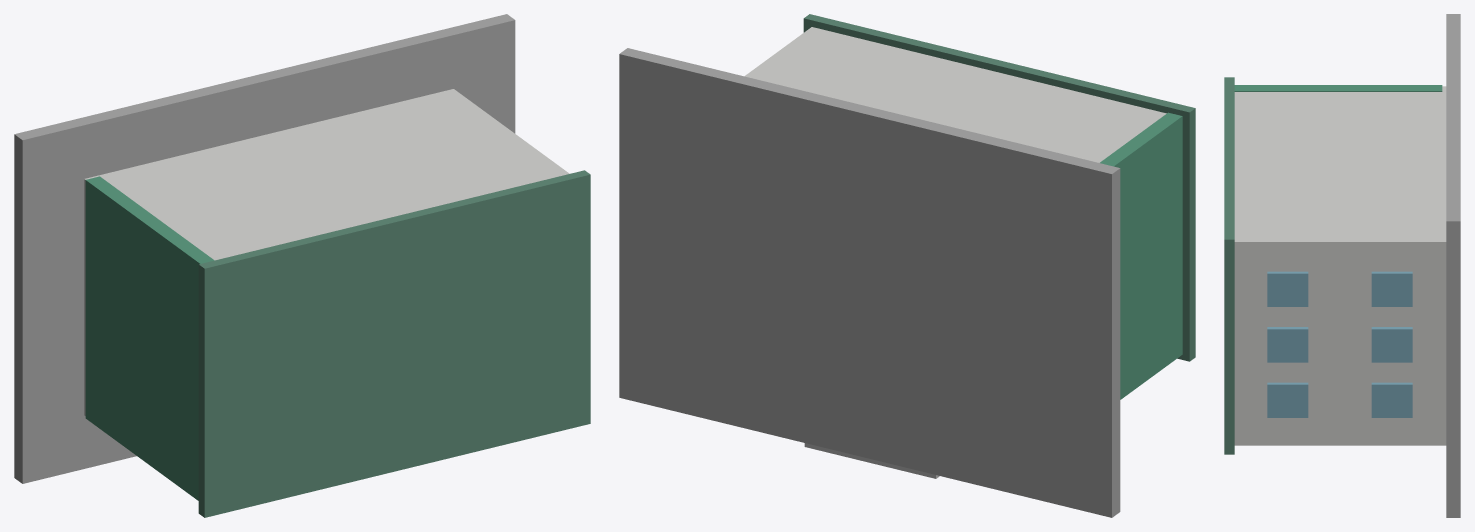
The model's file is EdificioB.glb.
3 renders of one model, left to right at view 1: azimuth 30°, elevation 25°; view 2: azimuth 150°, elevation 25°; view 3: azimuth 270°, elevation 25°, orthographic. The views are drawn at different scales.
Visible parts, largest first — view 1: roof, base, front_green_accent, building_ground, building_upper; view 2: base, building_upper, front_green_accent, roof, building_ground; view 3: building_upper, building_ground, base, roof, sidewindow_1.5_0, sidewindow_4.05_0, sidewindow_1.5_-1.5, sidewindow_1.5_1.5, sidewindow_4.05_-1.5, sidewindow_4.05_1.5, front_green_accent.
Boxes of the visible parts, x1,y1,x2,y2 form: roof: [198, 170, 590, 517]; base: [14, 14, 515, 483]; front_green_accent: [85, 176, 214, 500]; building_ground: [84, 89, 514, 415]; building_upper: [160, 133, 569, 260]; base: [619, 48, 1120, 517]; building_upper: [750, 27, 1166, 158]; front_green_accent: [1100, 112, 1182, 399]; roof: [803, 14, 1195, 361]; building_ground: [744, 72, 1104, 162]; building_upper: [1234, 92, 1340, 445]; building_ground: [1341, 86, 1446, 445]; base: [1446, 14, 1460, 517]; roof: [1224, 77, 1234, 454]; sidewindow_1.5_0: [1371, 327, 1412, 362]; sidewindow_4.05_0: [1267, 327, 1308, 362]; sidewindow_1.5_-1.5: [1371, 382, 1412, 417]; sidewindow_1.5_1.5: [1371, 271, 1412, 306]; sidewindow_4.05_-1.5: [1267, 382, 1308, 417]; sidewindow_4.05_1.5: [1267, 271, 1308, 306]; front_green_accent: [1234, 85, 1442, 91].
Bounding box in the file's own units: 12 × 8.2 × 5.78.
